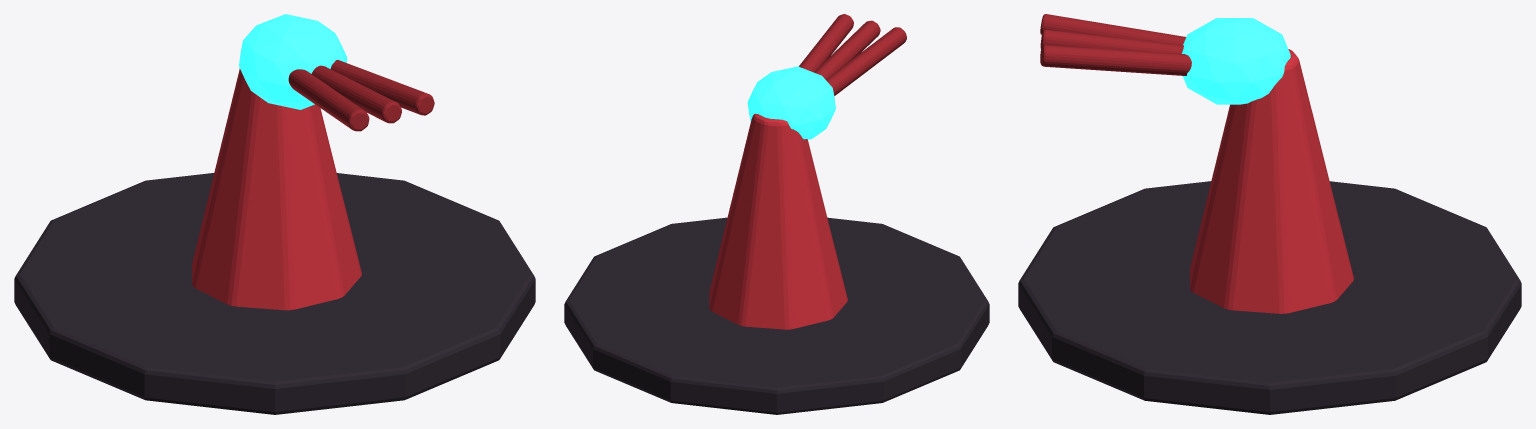
Rendered from alien_aa_turret.glb.
3 renders of one model, left to right at view 1: azimuth 30°, elevation 25°; view 2: azimuth 150°, elevation 25°; view 3: azimuth 270°, elevation 25°, orthographic. The views are drawn at different scales.
Parts seen in each view (by area): view 1: Foundation, Stalk, Tracker, EnergyLance, EnergyLance.002, EnergyLance.001; view 2: Foundation, Stalk, Tracker, EnergyLance, EnergyLance.001, EnergyLance.002; view 3: Foundation, Stalk, Tracker, EnergyLance.002, EnergyLance, EnergyLance.001.
Boxes of the visible parts, x1,y1,x2,y2 form: Foundation: [14, 173, 535, 414]; Stalk: [192, 68, 361, 310]; Tracker: [239, 14, 347, 109]; EnergyLance: [288, 69, 369, 131]; EnergyLance.002: [330, 60, 434, 115]; EnergyLance.001: [311, 65, 401, 123]; Foundation: [564, 217, 989, 414]; Stalk: [709, 113, 847, 329]; Tracker: [747, 66, 835, 139]; EnergyLance: [826, 27, 906, 95]; EnergyLance.001: [814, 20, 880, 79]; EnergyLance.002: [799, 14, 853, 72]; Foundation: [1018, 181, 1521, 414]; Stalk: [1190, 49, 1353, 313]; Tracker: [1182, 18, 1290, 104]; EnergyLance.002: [1040, 45, 1191, 75]; EnergyLance: [1040, 14, 1186, 45]; EnergyLance.001: [1040, 29, 1183, 53].
Size of the model in its own units: 1.72 by 1.09 by 1.72.
